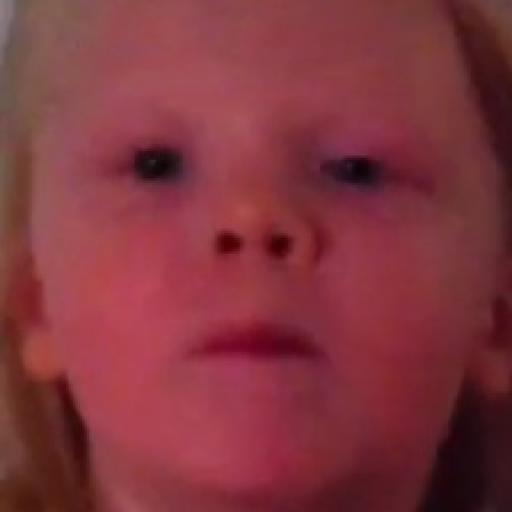Autism: (67, 47, 512, 512)
